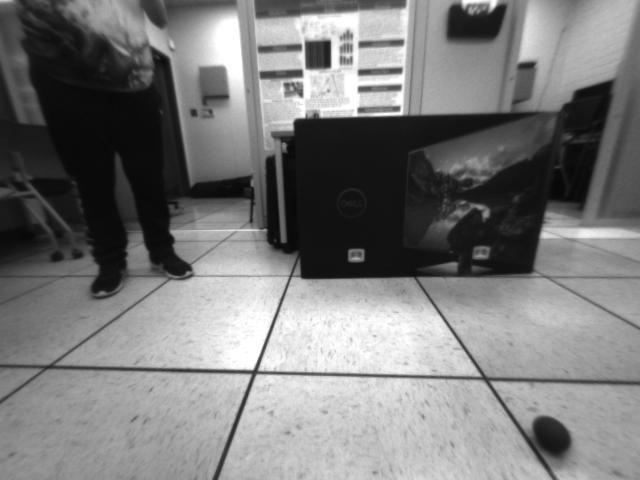dogtoy: (529, 406, 578, 464)
